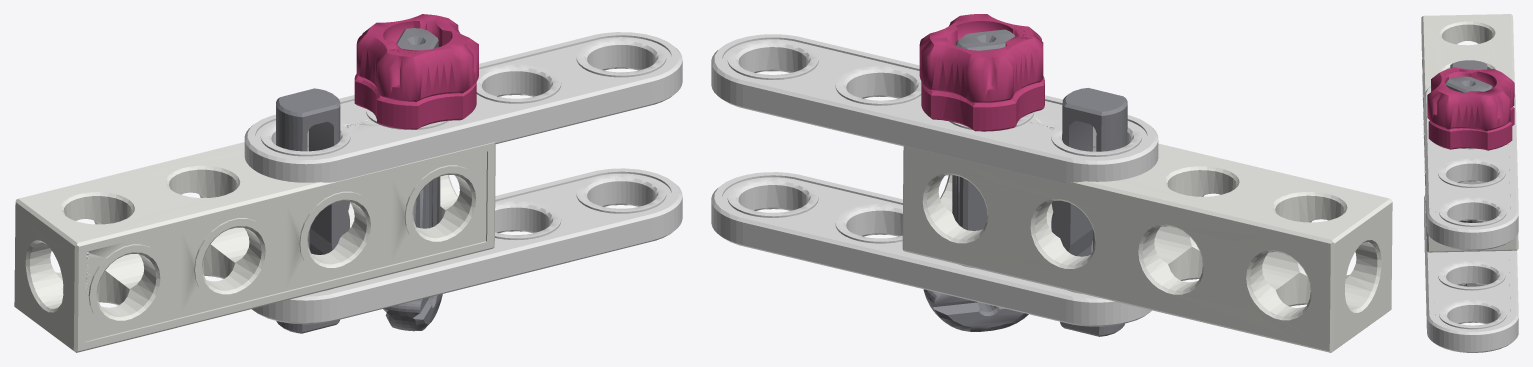
Rendered from state5.fbx.
3 renders of one model, left to right at view 1: azimuth 30°, elevation 25°; view 2: azimuth 150°, elevation 25°; view 3: azimuth 270°, elevation 25°, orthographic. The views are drawn at different scales.
Parts seen in each view (by area): view 1: Pin SPP INR LCT BDR BU01.00x00.50 - SPN-PIN-0094 (stemfie.or; view 2: Pin SPP INR LCT BDR BU01.00x00.50 - SPN-PIN-0094 (stemfie.or; view 3: Pin SPP INR LCT BDR BU01.00x00.50 - SPN-PIN-0094 (stemfie.or.
Part boxes in pixels (x1,y1,x2,y2): Pin SPP INR LCT BDR BU01.00x00.50 - SPN-PIN-0094 (stemfie.or: (14,14,682,352); Pin SPP INR LCT BDR BU01.00x00.50 - SPN-PIN-0094 (stemfie.or: (711,14,1392,352); Pin SPP INR LCT BDR BU01.00x00.50 - SPN-PIN-0094 (stemfie.or: (1421,14,1518,352).
Bounding box in the file's own units: 7476 × 3225 × 1328.
